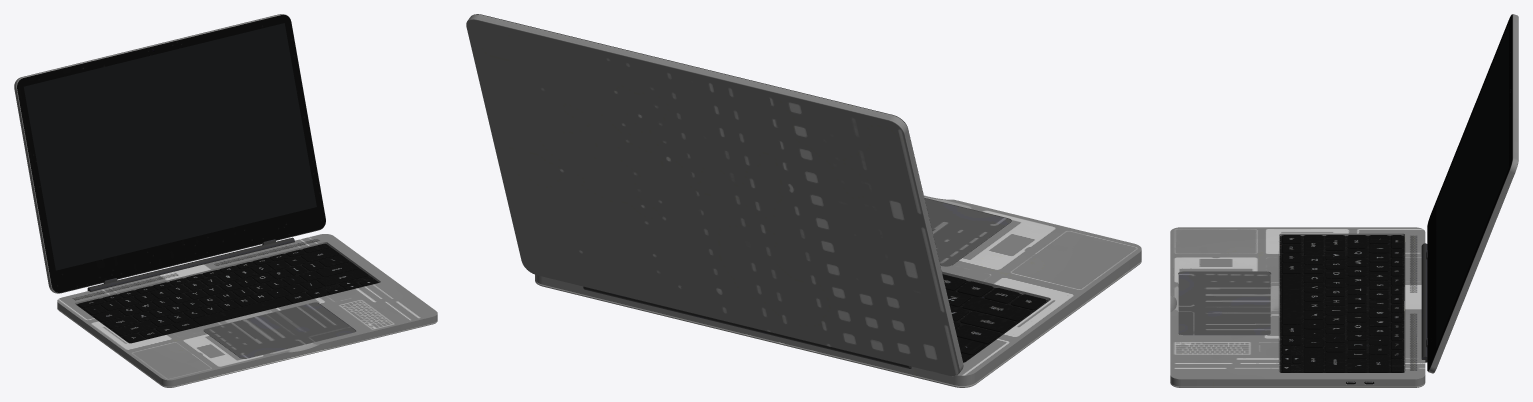
The model's file is laptop-generic.glb.
3 renders of one model, left to right at view 1: azimuth 30°, elevation 25°; view 2: azimuth 150°, elevation 25°; view 3: azimuth 270°, elevation 25°, orthographic. The views are drawn at different scales.
Visible parts, largest first — view 1: screen, base, lid_shell; view 2: lid_shell, base; view 3: base, screen, lid_shell.
Boxes of the visible parts, x1,y1,x2,y2 form: screen: [24, 23, 316, 270]; base: [57, 234, 437, 387]; lid_shell: [14, 14, 325, 293]; lid_shell: [466, 14, 963, 376]; base: [535, 195, 1141, 387]; base: [1170, 227, 1427, 387]; screen: [1436, 24, 1508, 347]; lid_shell: [1426, 14, 1518, 373].
Bounding box in the file's own units: 0.312 × 0.217 × 0.302.
Materials: 2 (1 with a texture image).
